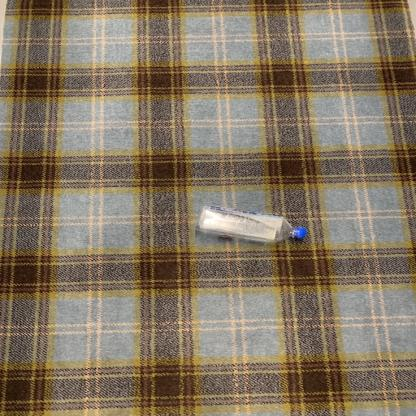trash: (194, 207, 310, 244)
